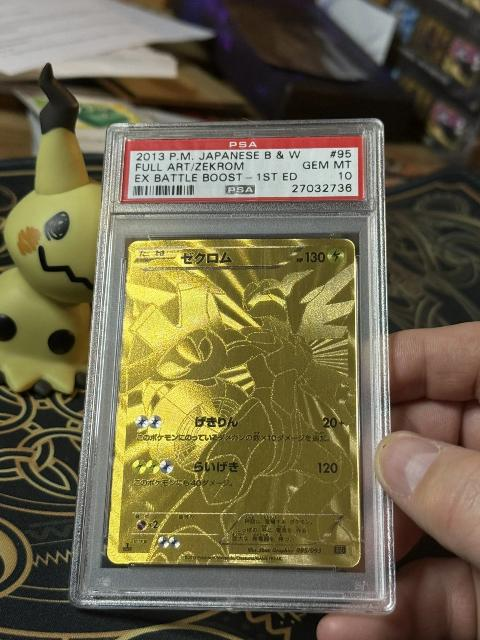Card: (102, 234, 365, 572)
Name: (178, 248, 235, 268)
